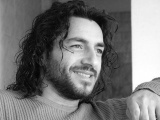male: (42, 13, 107, 102)
